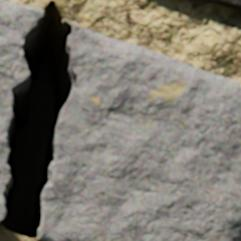brick: (198, 0, 240, 13)
broken_brick: (37, 19, 240, 240), (0, 0, 43, 221)
crack: (0, 1, 76, 239)
